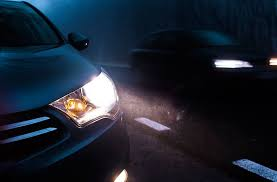car: (1, 1, 129, 182)
